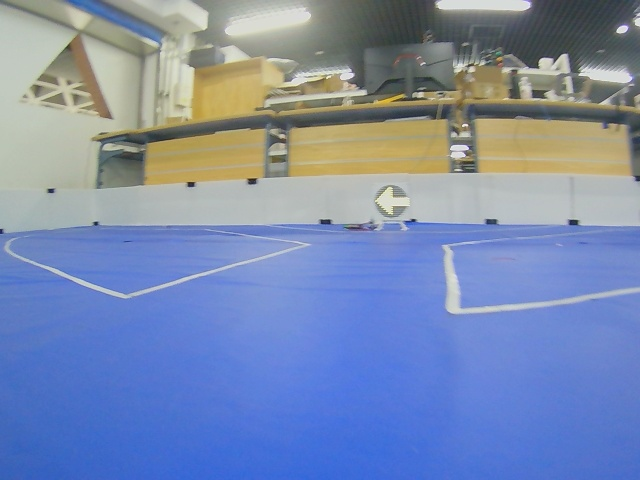left_yellow: (375, 185, 410, 218)
